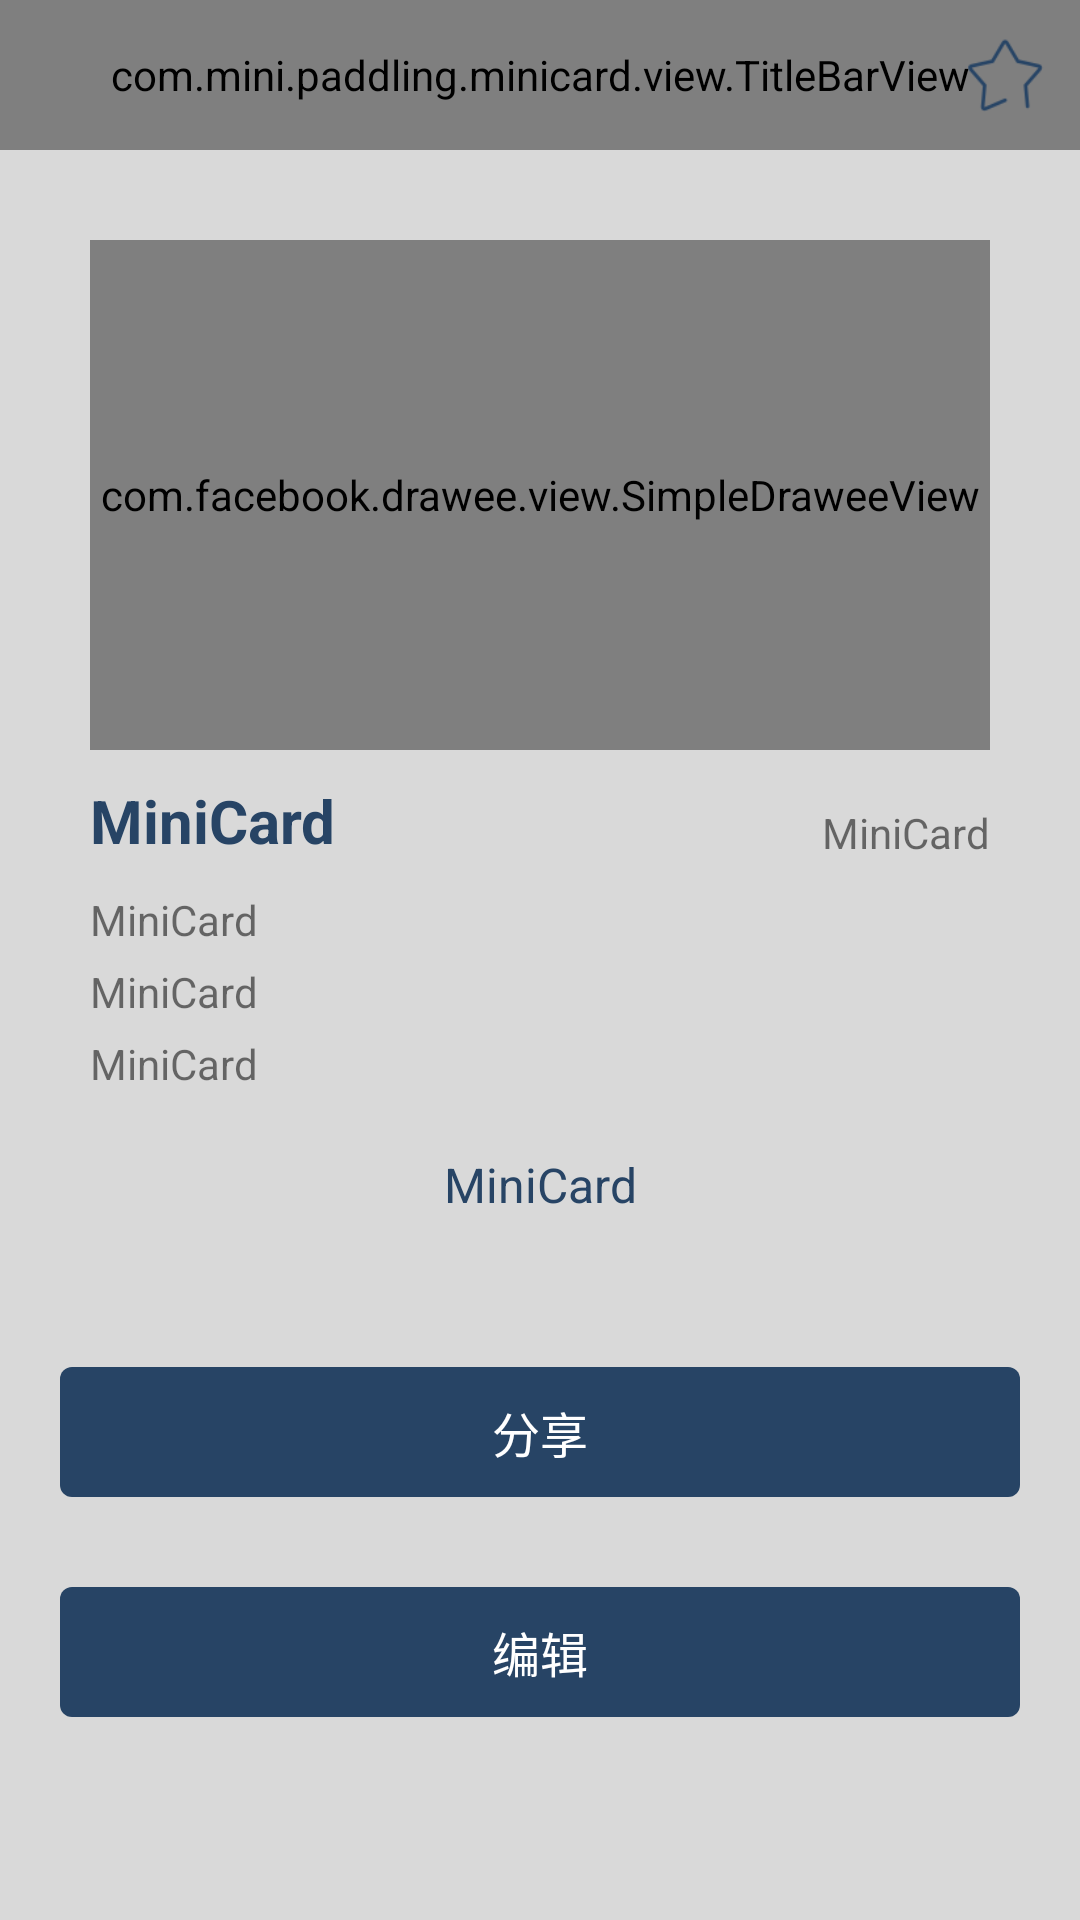

Screen size 1080 x 1920. Icon name, then its box in pixels as {"x1": x1, "y1": y1, "x2": x2, "y2": y2}:
un collect: {"x1": 939, "y1": 40, "x2": 1042, "y2": 111}
